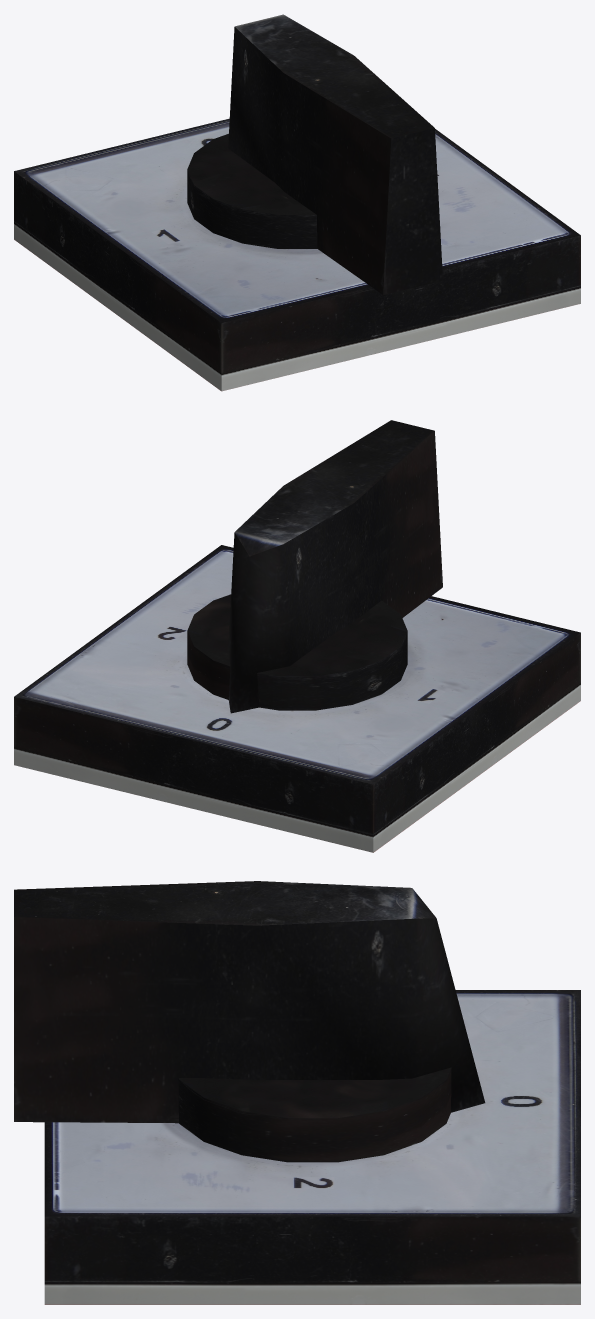
File: uploads_files_3726538_switch_01.fbx
3 renders of one model, top to bottom at view 1: azimuth 30°, elevation 25°; view 2: azimuth 150°, elevation 25°; view 3: azimuth 270°, elevation 25°, orthographic. The views are drawn at different scales.
Parts seen in each view (by area): view 1: Frame, Switch; view 2: Frame, Switch; view 3: Switch, Frame.
Boxes of the visible parts, left/top/right/bottom form: Frame: left=14, top=118, right=580, bottom=391; Switch: left=187, top=14, right=442, bottom=294; Frame: left=14, top=545, right=580, bottom=852; Switch: left=187, top=420, right=442, bottom=713; Switch: left=14, top=881, right=485, bottom=1162; Frame: left=44, top=990, right=580, bottom=1304.
Bounding box in the file's own units: 6.6 × 3.91 × 6.98.
1 material, 1 textured.
